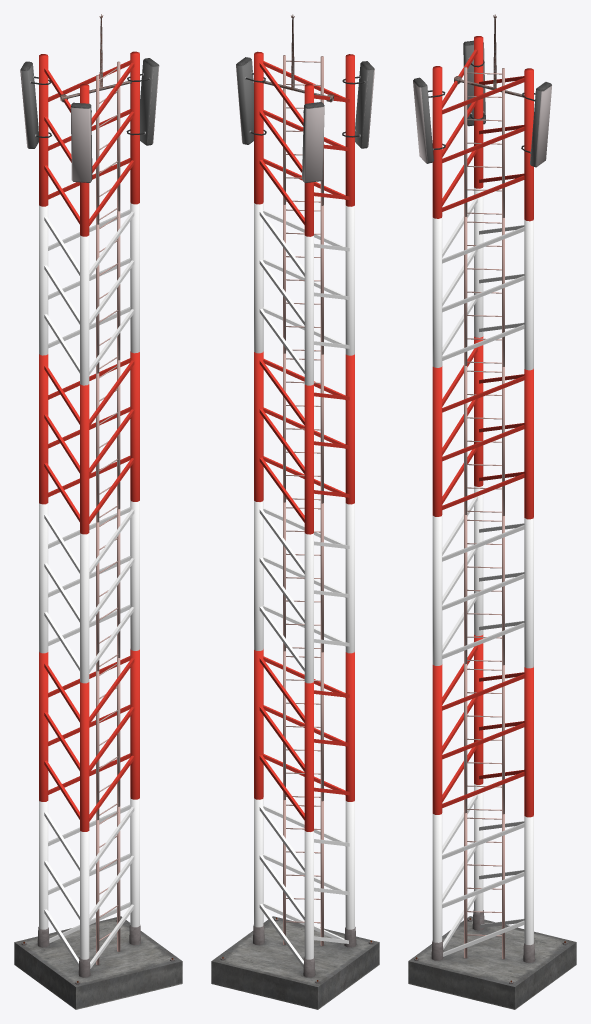
The model's file is radio_tower.glb.
The picture shows the model from 3 angles, left to right: view 1: azimuth 30°, elevation 25°; view 2: azimuth 150°, elevation 25°; view 3: azimuth 330°, elevation 25°; orthographic projection.
Visible parts, largest first — view 1: Base, Tower.003, Tower.004, Tower.002, Tower.001, Tower, Tower.005, Sectorial.002, Sectorial, Sectorial.001, Stairs.005, Stairs.004 (+5 smaller); view 2: Base, Tower.004, Tower.003, Tower.002, Tower.001, Tower, Tower.005, Sectorial.001, Sectorial.002, Sectorial, Stairs.004, Stairs.002 (+5 smaller); view 3: Base, Tower.004, Tower.003, Tower.002, Tower.001, Tower.005, Tower, Sectorial, Stairs.005, Stairs.004, Stairs.003, Stairs.001 (+5 smaller).
Boxes of the visible parts, left/top/right/bottom form: Base: left=14, top=916, right=182, bottom=1009; Tower.003: left=39, top=351, right=139, bottom=534; Tower.004: left=39, top=202, right=139, bottom=385; Tower.002: left=39, top=500, right=139, bottom=683; Tower.001: left=39, top=649, right=139, bottom=831; Tower: left=39, top=797, right=139, bottom=968; Tower.005: left=39, top=51, right=139, bottom=236; Sectorial.002: left=70, top=102, right=92, bottom=182; Sectorial: left=126, top=58, right=159, bottom=145; Sectorial.001: left=20, top=61, right=51, bottom=148; Stairs.005: left=96, top=61, right=120, bottom=224; Stairs.004: left=96, top=211, right=120, bottom=373; Base: left=211, top=916, right=379, bottom=1009; Tower.004: left=254, top=202, right=354, bottom=385; Tower.003: left=254, top=351, right=354, bottom=534; Tower.002: left=254, top=500, right=354, bottom=683; Tower.001: left=254, top=649, right=354, bottom=831; Tower: left=254, top=797, right=354, bottom=967; Tower.005: left=254, top=51, right=354, bottom=236; Sectorial.001: left=302, top=102, right=324, bottom=182; Sectorial.002: left=342, top=61, right=374, bottom=148; Sectorial: left=236, top=57, right=266, bottom=144; Stairs.004: left=283, top=204, right=323, bottom=354; Stairs.002: left=283, top=502, right=323, bottom=652; Base: left=408, top=910, right=576, bottom=1009; Tower.004: left=432, top=187, right=533, bottom=370; Tower.003: left=432, top=336, right=533, bottom=519; Tower.002: left=432, top=485, right=533, bottom=668; Tower.001: left=432, top=634, right=533, bottom=817; Tower.005: left=432, top=36, right=533, bottom=221; Tower: left=432, top=783, right=533, bottom=956; Sectorial: left=521, top=82, right=551, bottom=167; Stairs.005: left=464, top=67, right=504, bottom=217; Stairs.004: left=464, top=216, right=504, bottom=366; Stairs.003: left=464, top=366, right=504, bottom=515; Stairs.001: left=464, top=664, right=504, bottom=814.
Size of what is drawn, in the model's own units: 154 by 1290 by 153.
Materials: 6 (6 with a texture image).
